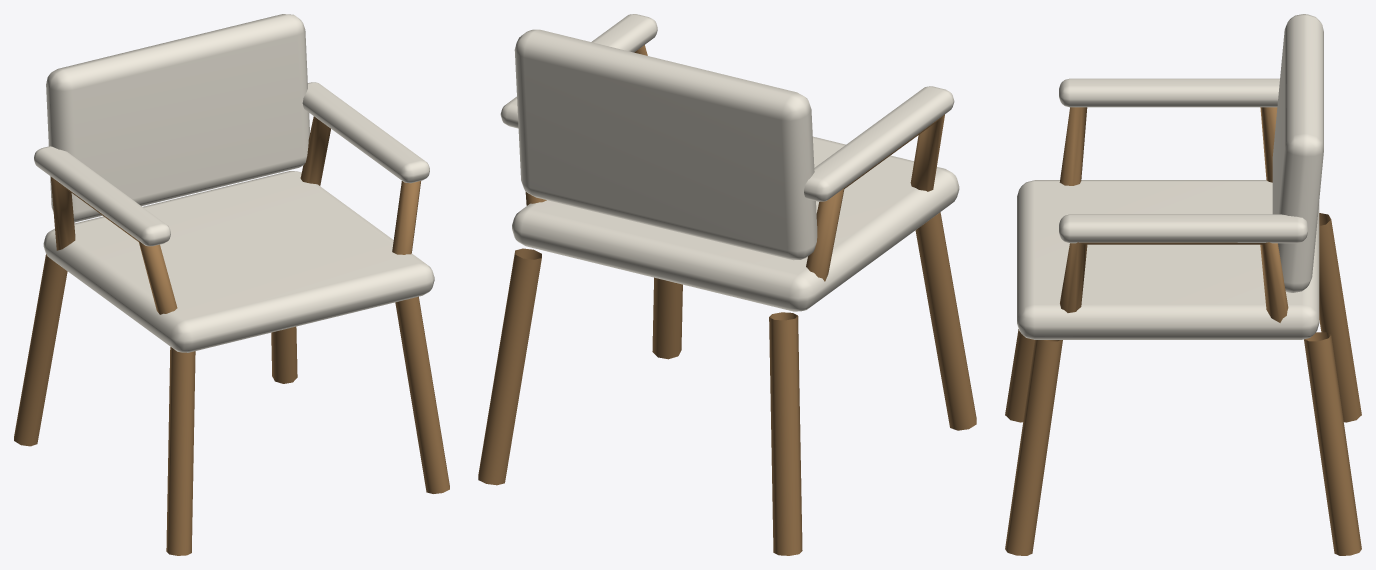
The model's file is prod-1773061941304-pcl31.glb.
3 renders of one model, left to right at view 1: azimuth 30°, elevation 25°; view 2: azimuth 150°, elevation 25°; view 3: azimuth 270°, elevation 25°, orthographic. The views are drawn at different scales.
Parts seen in each view (by area): view 1: Upholstered seat.009, Chair leg.028; view 2: Upholstered seat.009, Chair leg.028; view 3: Upholstered seat.009, Chair leg.028.
Part boxes in pixels (x1,y1,x2,y2): Upholstered seat.009: (34,14,434,352); Chair leg.028: (14,116,449,555); Upholstered seat.009: (500,14,959,311); Chair leg.028: (478,45,976,555); Upholstered seat.009: (1017,14,1323,339); Chair leg.028: (1005,107,1361,555).
Size of the model in its own units: 0.63 by 0.8 by 0.63.
